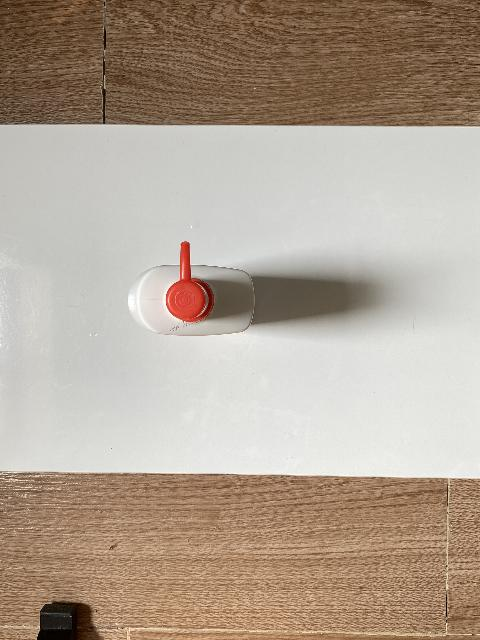life-buoy: (127, 241, 255, 337)
